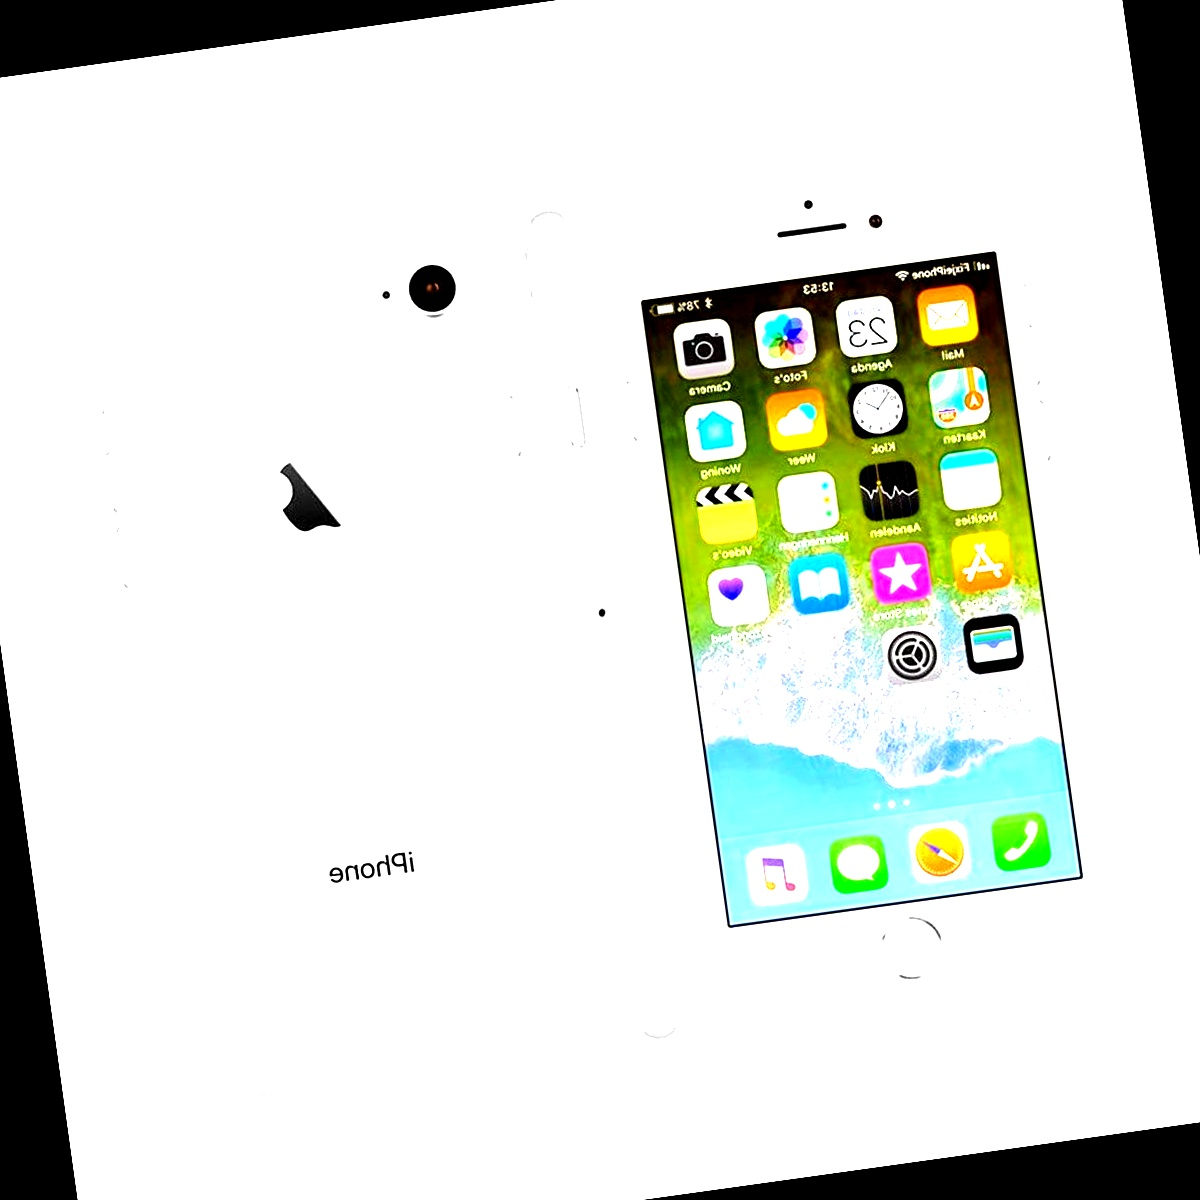iphone: (637, 222, 1078, 1074), (111, 204, 551, 1053), (558, 218, 633, 1056)
